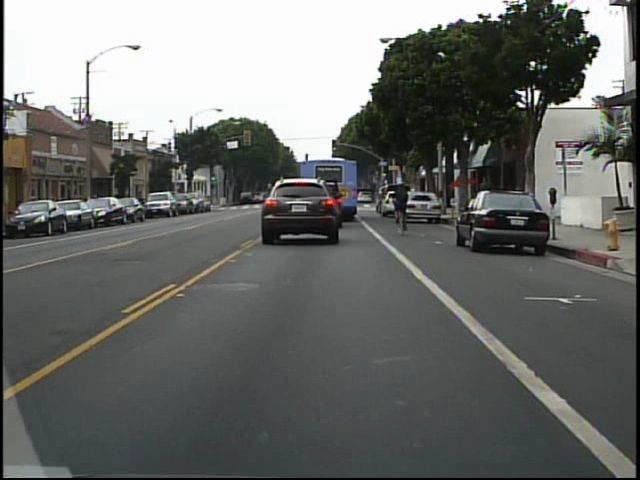person: (391, 178, 413, 235)
